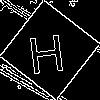H: (25, 25, 67, 75)
